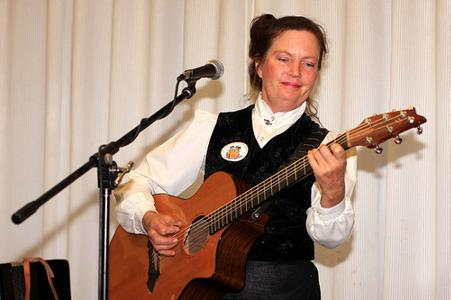person: (112, 14, 359, 299)
